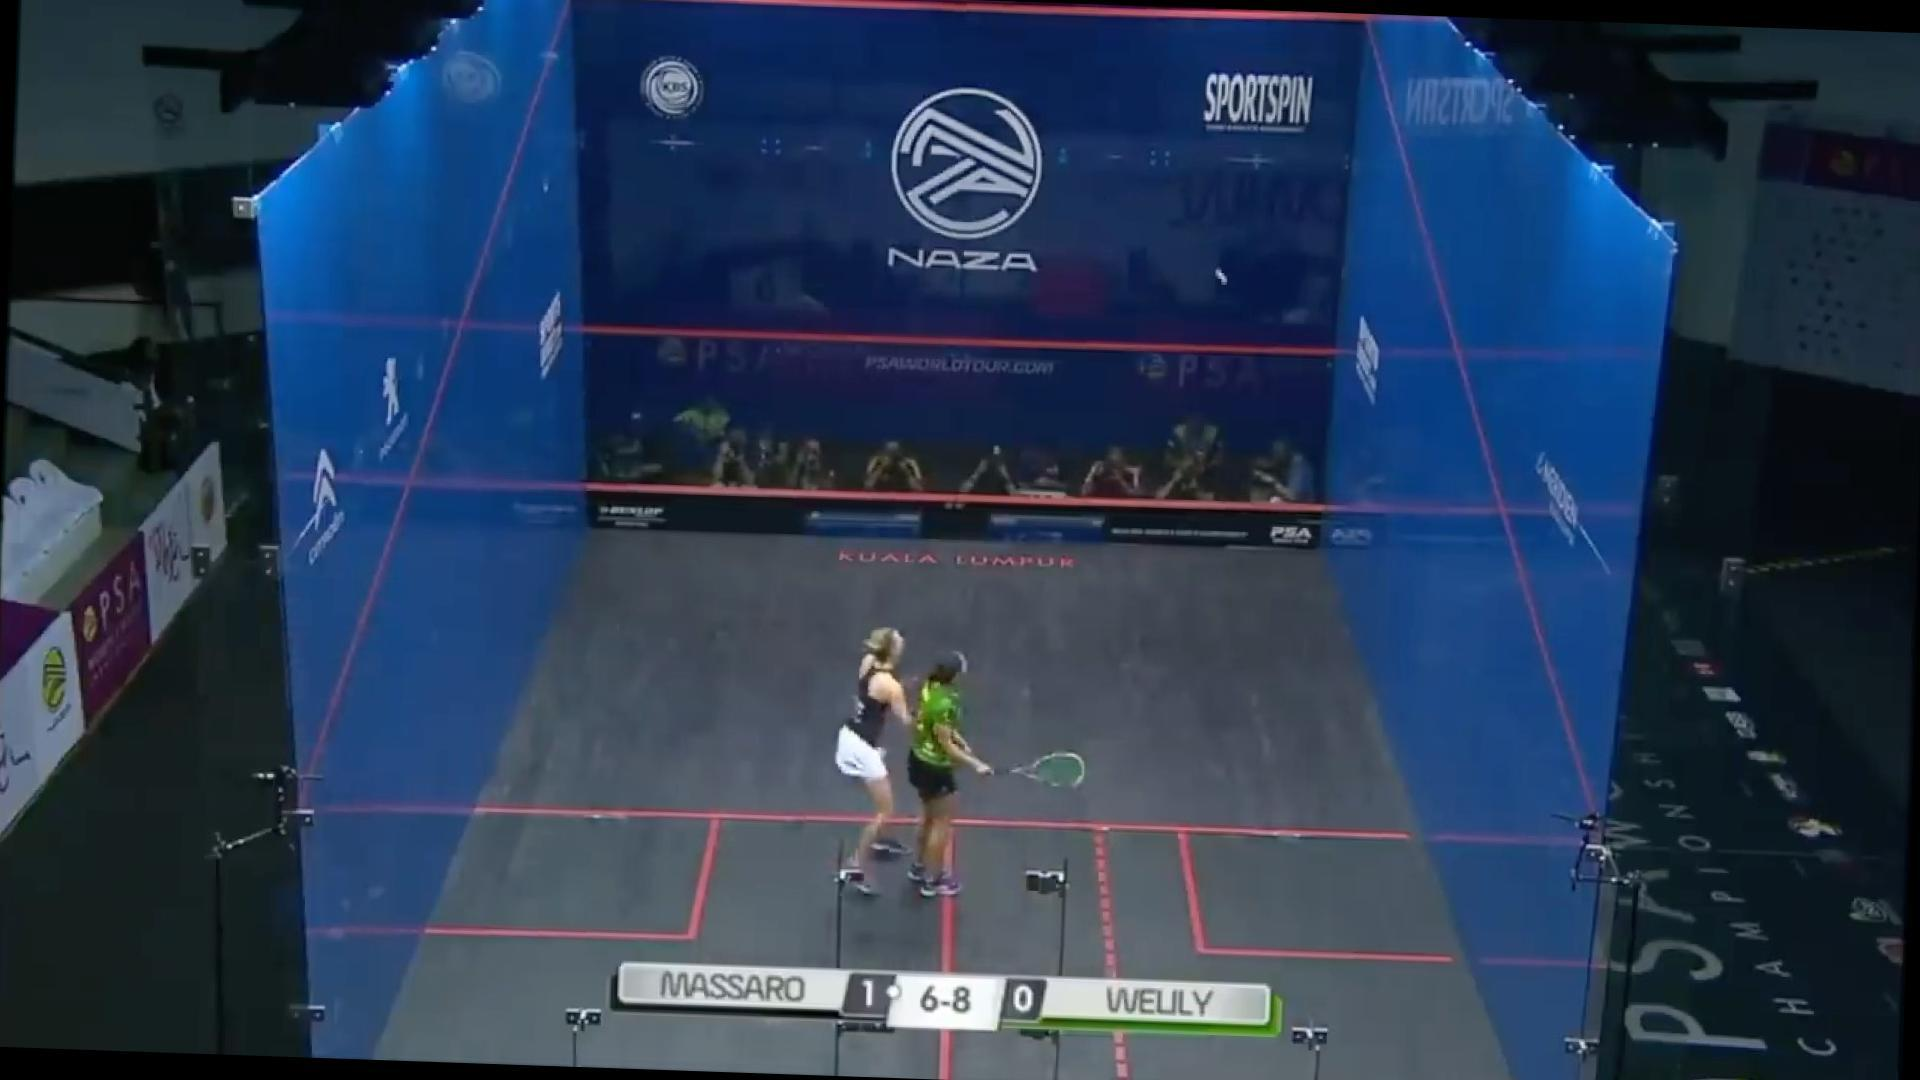Squash-Ball: (1193, 251, 1242, 299)
